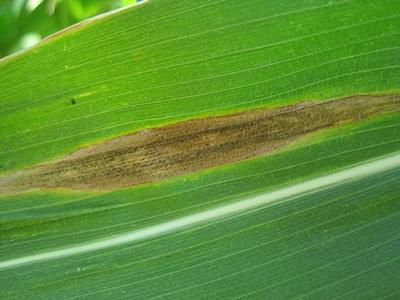Corn leaf blight: (4, 6, 400, 266)
